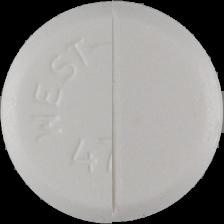68387-241: (0, 0, 224, 224)
